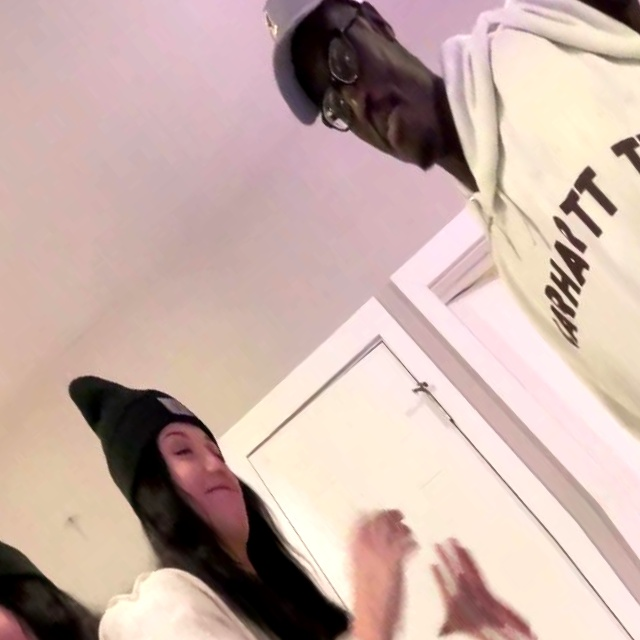Paper: (313, 491, 454, 634)
